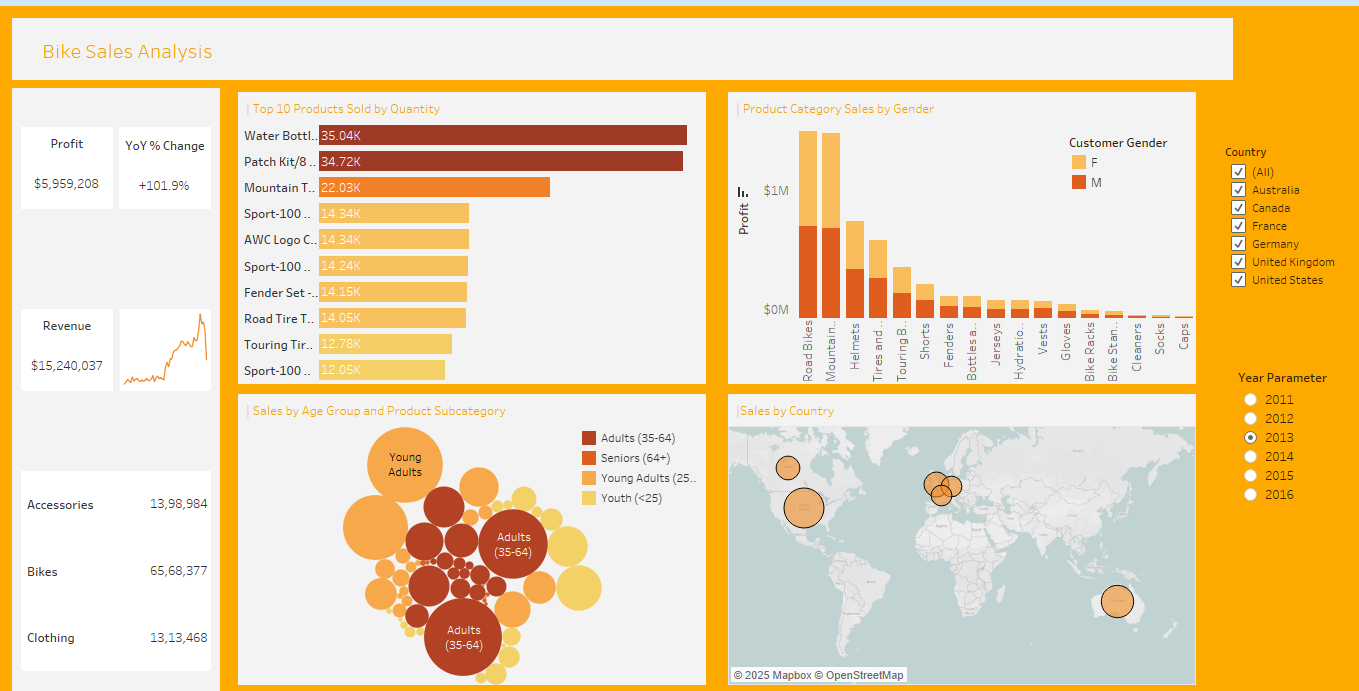

What the dashboard file says about the page in this screenshot:
{"tool":"tableau","page":{"name":"Sales Dashboard","canvas":[1000,1000],"units":"permille","ordinal":0},"visuals":[{"type":"text","box":[6,14.5,897.8,99.6]},{"type":"blank","box":[6,114.1,157.9,871.4]},{"type":"blank","box":[163.9,114.1,739.9,871.4]},{"type":"text","box":[174.3,123.2,342.6,45.3]},{"type":"text","box":[533,123.2,342.6,45.3]},{"type":"worksheet","title":"Top 10 Products","mark":"Bar","rows":["Product"],"box":[174.3,166.7,342.6,375]},{"type":"worksheet","title":"Sub Category Bar chart","mark":"Automatic","rows":["Profit"],"cols":["Sub_Category"],"box":[533,166.7,342.6,375]},{"type":"worksheet","title":"Profit Card","mark":"Automatic","cols":["Calculation_901282876681519105"],"box":[15.2,173.9,67.7,117.8]},{"type":"worksheet","title":"YoY % change","mark":"Automatic","cols":["Calculation_901282876686413831"],"box":[87.1,173.9,67.7,117.8]},{"type":"legend","title":"Sub Category Bar chart","param":"[federated.1kz6xkm0jdqmlh1c70b0l0c51icm].[none:Customer_Gender:nk]","box":[782.6,183,93.1,105.1]},{"type":"filter","title":"Age group bubble chart","param":"[federated.1kz6xkm0jdqmlh1c70b0l0c51icm].[none:Country:nk]","box":[896.8,197.5,96.5,273.6]},{"type":"worksheet","title":"Revenue Card","mark":"Automatic","cols":["Calculation_901282876687998984"],"box":[15.2,434.8,67.7,117.8]},{"type":"worksheet","title":"Revenue Line Chart","mark":"Automatic","rows":["Revenue"],"cols":["Date"],"box":[87.1,434.8,67.7,117.8]},{"type":"parameter","param":"[Parameters].[Parameter 1]","box":[906.1,519.9,80.4,250]},{"type":"text","box":[174.3,556.2,342.6,45.3]},{"type":"text","box":[533,556.2,342.6,45.3]},{"type":"worksheet","title":"Age group bubble chart","mark":"Circle","box":[174.3,601.5,342.6,371.4]},{"type":"worksheet","title":"Map","mark":"Automatic","box":[533,601.5,342.6,371.4]},{"type":"legend","title":"Age group bubble chart","param":"[federated.1kz6xkm0jdqmlh1c70b0l0c51icm].[none:Age_Group:nk]","box":[423.9,605.1,89.7,159.4]},{"type":"worksheet","title":"Cost Cards","mark":"Automatic","rows":["Product_Category"],"box":[15.2,666.7,139.6,286.2]}]}

Visuals, with their boxes on the dashboard's canvas, which has no fixed pixel size, in thousandths of its width and height (x1, y1, x2, y2). These are canvas units, not pixel positions in the 1359x691 screenshot, which may show the page scaled, cropped or inside an application window:
text: box=[6, 14, 904, 114]
blank: box=[6, 114, 164, 986]
blank: box=[164, 114, 904, 986]
text: box=[174, 123, 517, 168]
text: box=[533, 123, 876, 168]
"Top 10 Products" worksheet (Bar marks): box=[174, 167, 517, 542]
"Sub Category Bar chart" worksheet: box=[533, 167, 876, 542]
"Profit Card" worksheet: box=[15, 174, 83, 292]
"YoY % change" worksheet: box=[87, 174, 155, 292]
"Sub Category Bar chart" legend: box=[783, 183, 876, 288]
"Age group bubble chart" filter: box=[897, 198, 993, 471]
"Revenue Card" worksheet: box=[15, 435, 83, 553]
"Revenue Line Chart" worksheet: box=[87, 435, 155, 553]
parameter: box=[906, 520, 986, 770]
text: box=[174, 556, 517, 602]
text: box=[533, 556, 876, 602]
"Age group bubble chart" worksheet (Circle marks): box=[174, 602, 517, 973]
"Map" worksheet: box=[533, 602, 876, 973]
"Age group bubble chart" legend: box=[424, 605, 514, 764]
"Cost Cards" worksheet: box=[15, 667, 155, 953]
